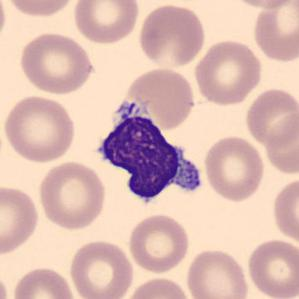Lymphocyte: (87, 94, 208, 212)
RBC: (1, 93, 78, 164), (16, 30, 96, 96), (36, 159, 108, 232), (192, 37, 264, 107), (136, 2, 208, 69), (124, 65, 197, 130), (202, 133, 267, 204), (68, 238, 136, 299), (126, 212, 192, 274), (184, 246, 251, 299), (243, 85, 298, 149), (245, 236, 298, 299), (71, 0, 141, 45), (250, 0, 298, 64), (0, 183, 41, 257), (262, 110, 298, 177), (10, 264, 78, 299), (270, 175, 298, 247), (122, 275, 194, 299), (2, 0, 79, 18), (223, 0, 298, 10), (0, 0, 8, 47), (0, 269, 12, 299)
